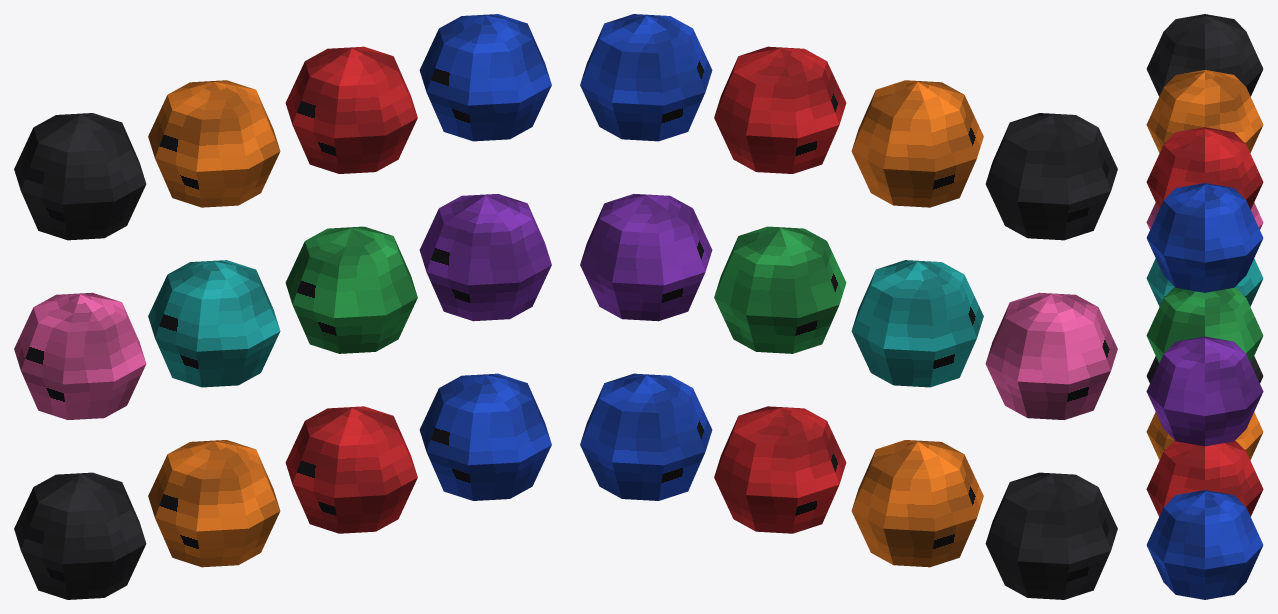
The model's file is rack_balls.obj.
The picture shows the model from 3 angles, left to right: view 1: azimuth 30°, elevation 25°; view 2: azimuth 150°, elevation 25°; view 3: azimuth 270°, elevation 25°; orthographic projection. The views are drawn at different scales.
Visible parts, largest first — view 1: rack_balls; view 2: rack_balls; view 3: rack_balls.
Part boxes in pixels (x1=…): rack_balls: x1=14, y1=14, x2=551, y2=599; rack_balls: x1=580, y1=14, x2=1117, y2=599; rack_balls: x1=1146, y1=14, x2=1263, y2=599.
Size of the model in its own units: 0.9534 by 0.8409 by 0.2159.
